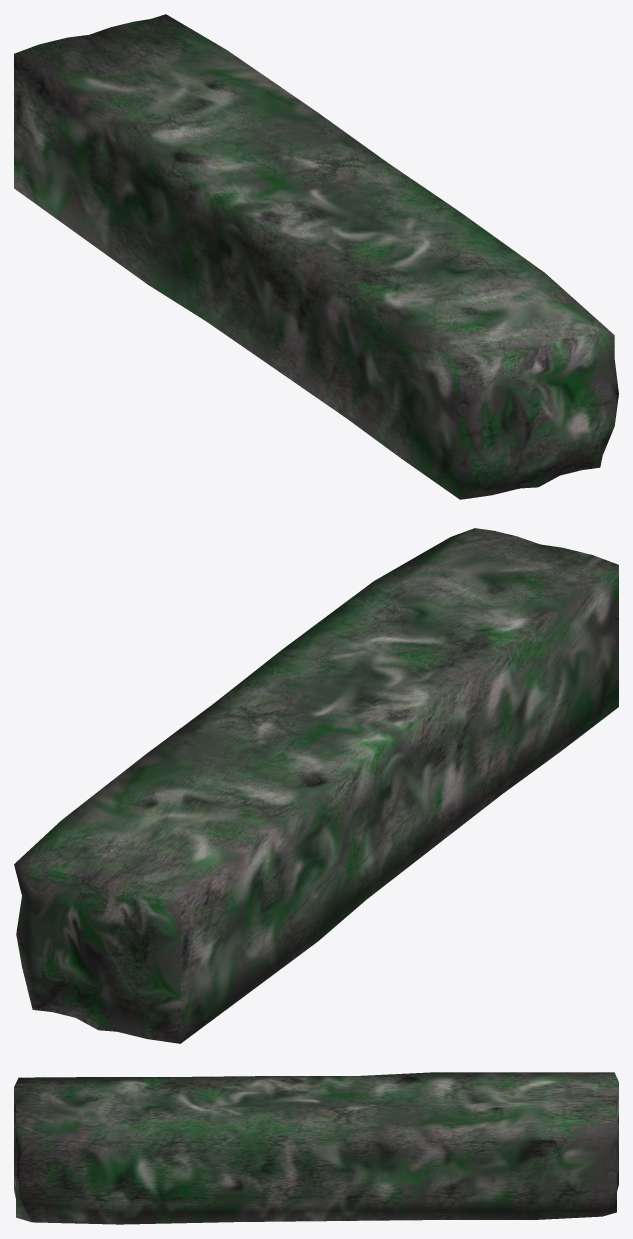
File: CaveStone5.fbx
The picture shows the model from 3 angles, top to bottom: view 1: azimuth 30°, elevation 25°; view 2: azimuth 150°, elevation 25°; view 3: azimuth 270°, elevation 25°; orthographic projection. The views are drawn at different scales.
Parts seen in each view (by area): view 1: CaveStone5; view 2: CaveStone5; view 3: CaveStone5.
Part boxes in pixels (x1=…): CaveStone5: x1=14, y1=14, x2=618, y2=499; CaveStone5: x1=14, y1=528, x2=618, y2=1043; CaveStone5: x1=14, y1=1072, x2=618, y2=1224.
Bounding box in the file's own units: 744 × 565 × 3152.
Materials: 1 (1 with a texture image).
